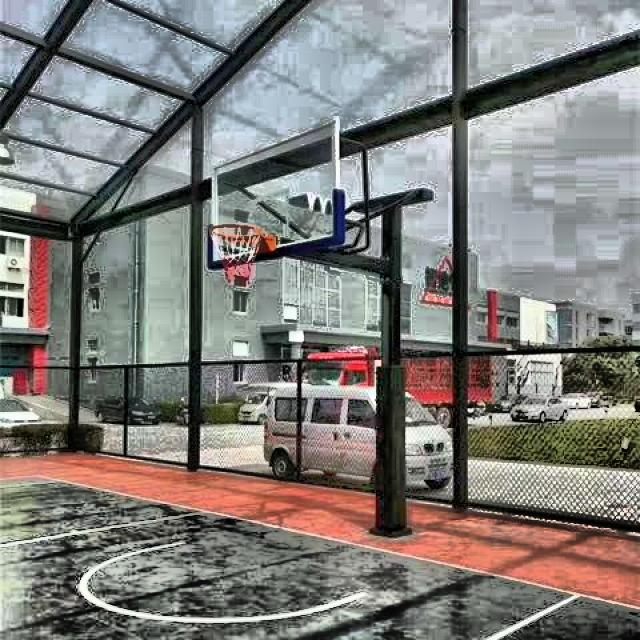rim: (209, 221, 263, 287)
